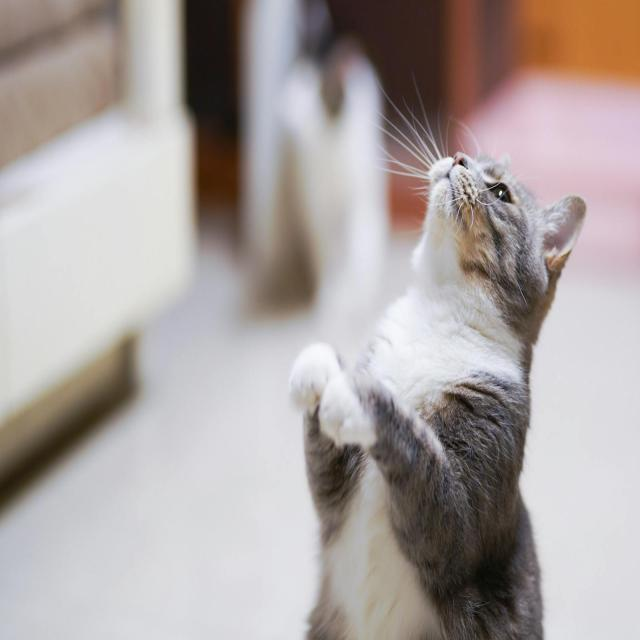Cat: (288, 71, 586, 639)
